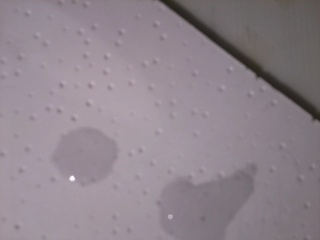Water_detected: (159, 177, 221, 236), (49, 127, 108, 187)
